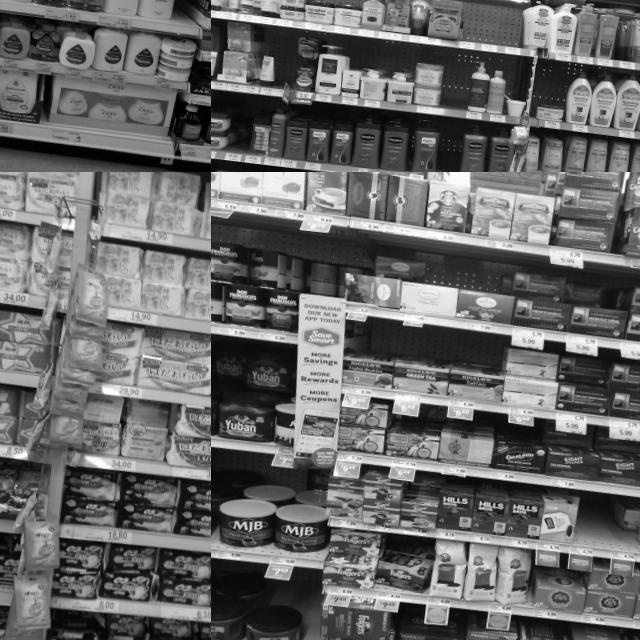100- O.O.S: (574, 492, 610, 557), (438, 56, 472, 116), (435, 122, 465, 172), (478, 3, 505, 52), (230, 107, 252, 161), (500, 8, 522, 54), (461, 4, 482, 49), (273, 39, 289, 97), (174, 0, 195, 34)
